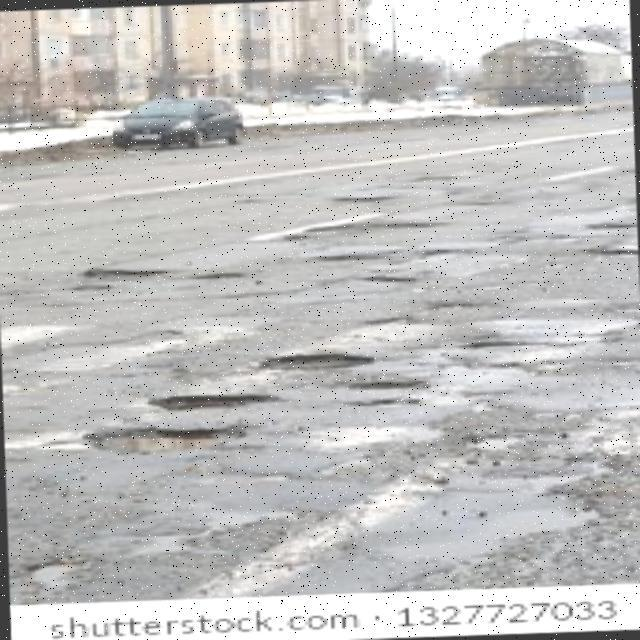Pothole: (78, 422, 222, 464), (257, 342, 373, 378), (148, 389, 276, 415)
